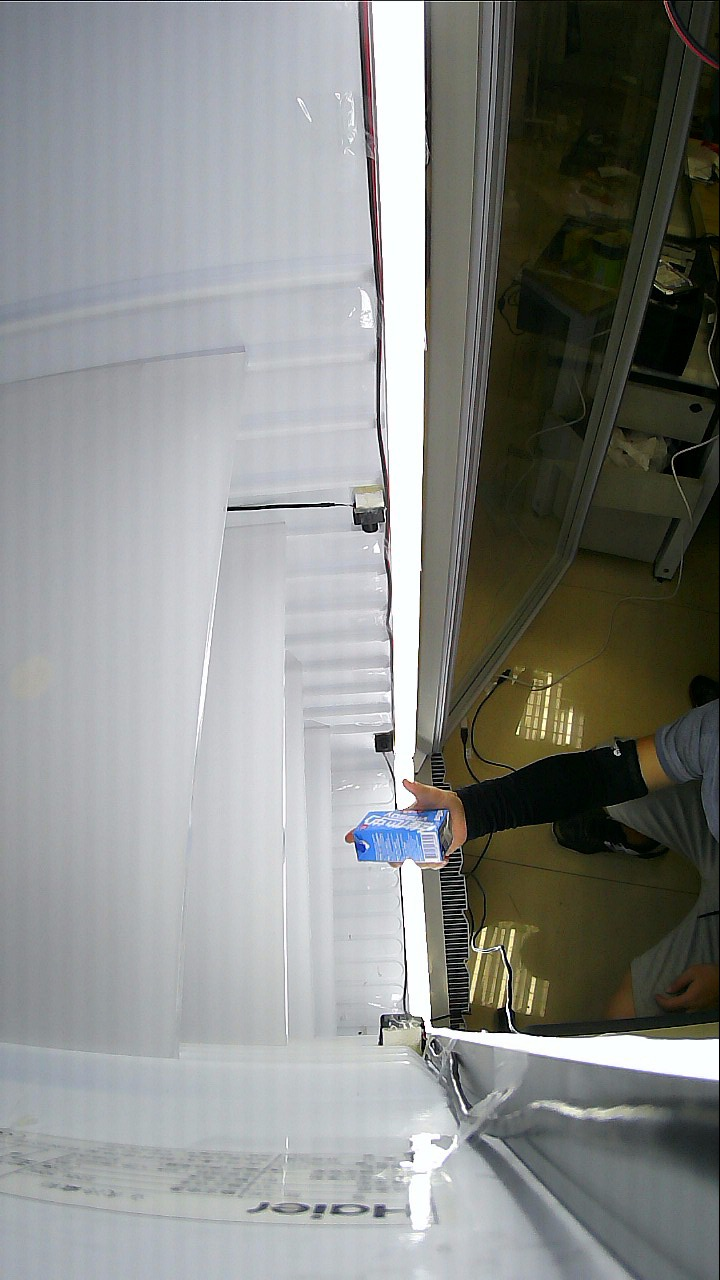VitaSoyOriginal: (350, 786, 485, 873)
